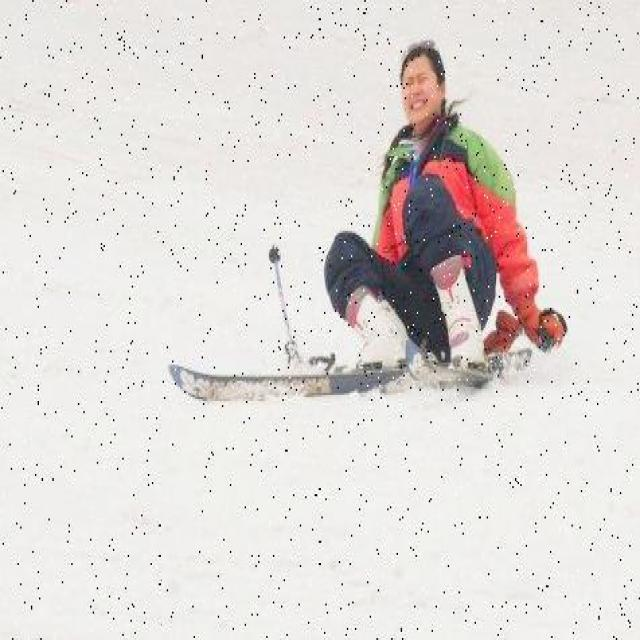fall: (334, 30, 528, 362)
